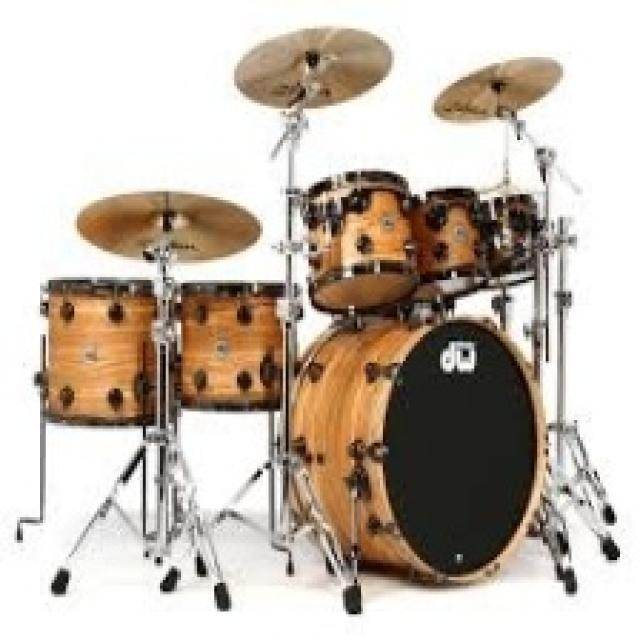drums: (36, 4, 602, 596)
